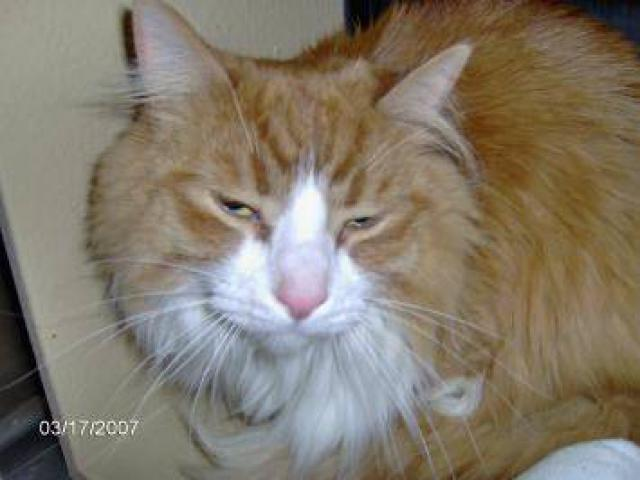cat: (69, 1, 635, 478)
